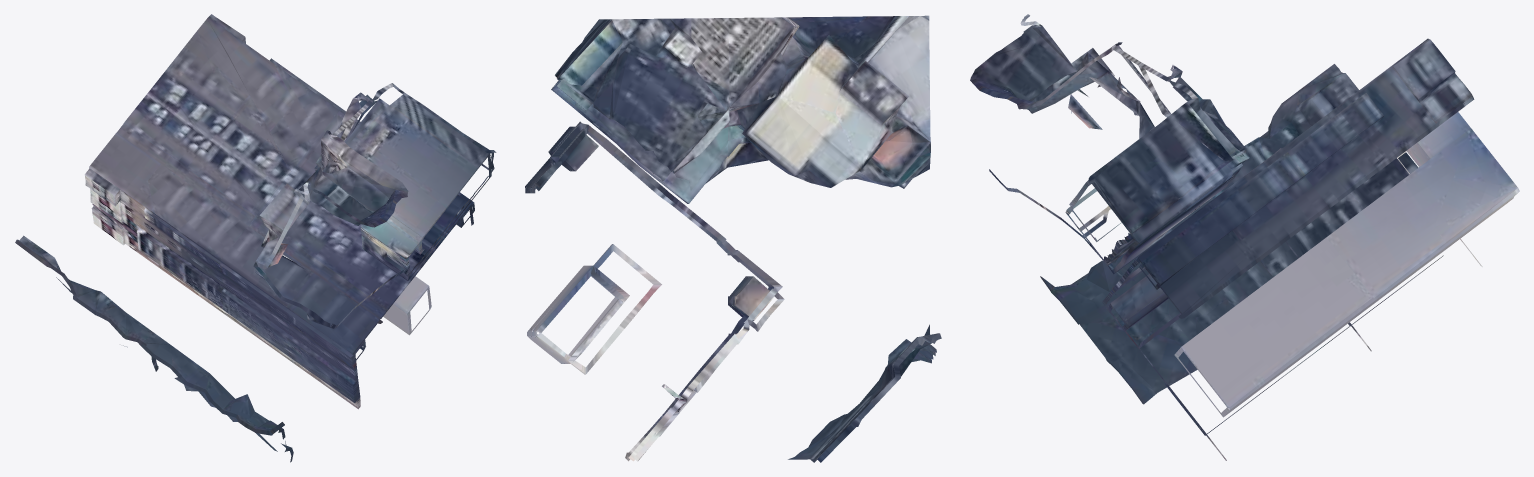
The picture shows the model from 3 angles, left to right: view 1: azimuth 30°, elevation 25°; view 2: azimuth 150°, elevation 25°; view 3: azimuth 270°, elevation 25°; orthographic projection. The views are drawn at different scales.
Bounding box in the file's own units: 50.19 × 41.96 × 53.45.
2 materials, 2 textured.
